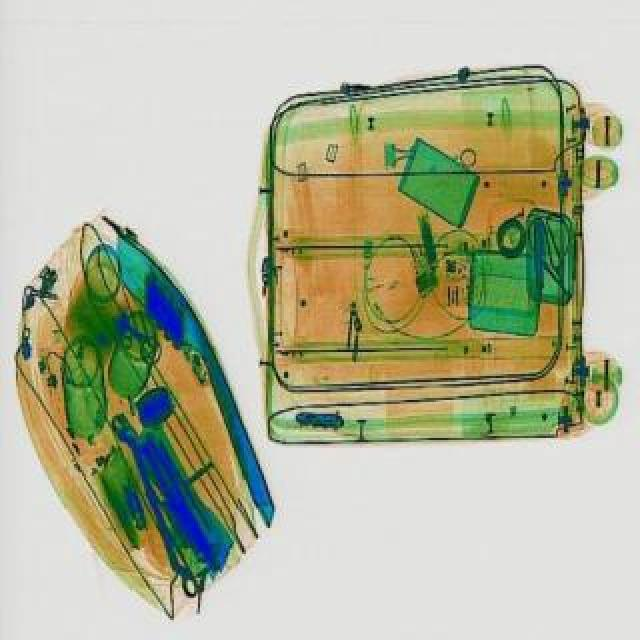scissors: (104, 408, 204, 598)
wrench: (140, 436, 224, 568)
